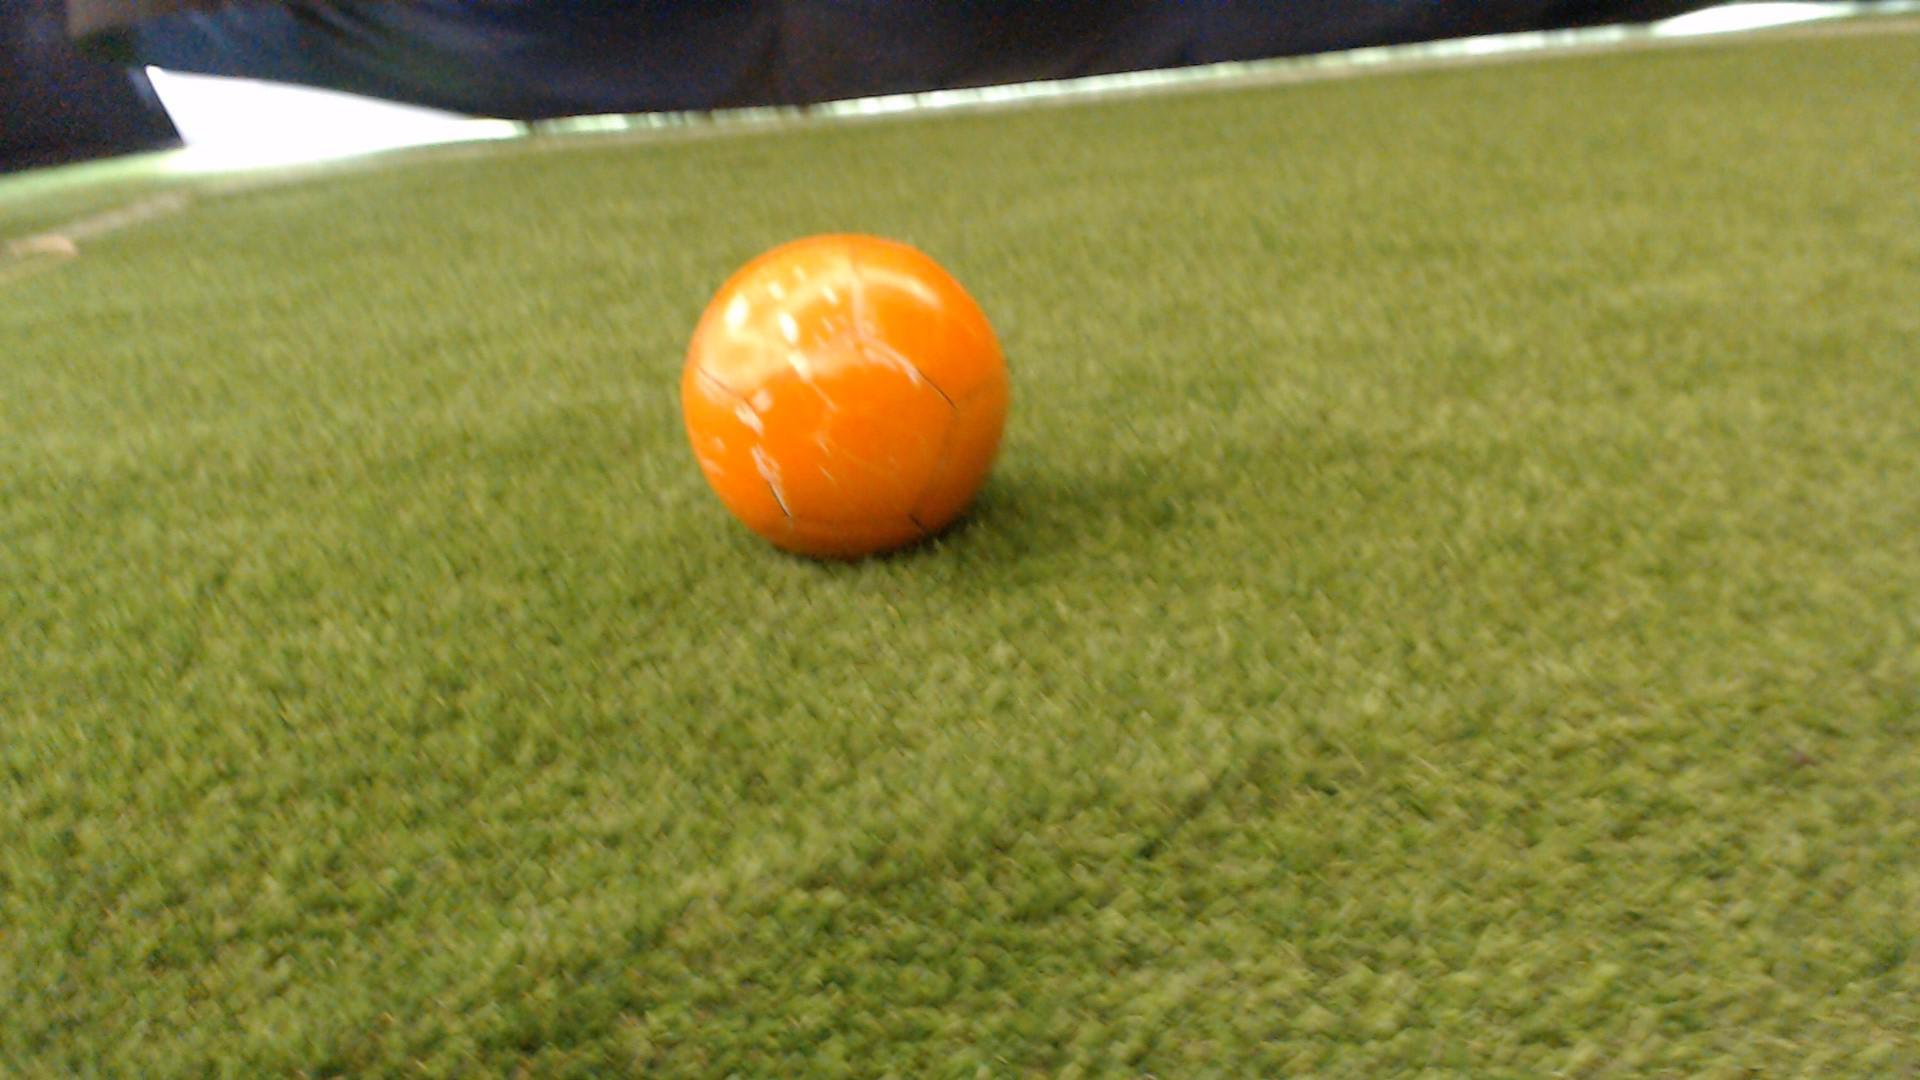bola: (645, 215, 1039, 571)
